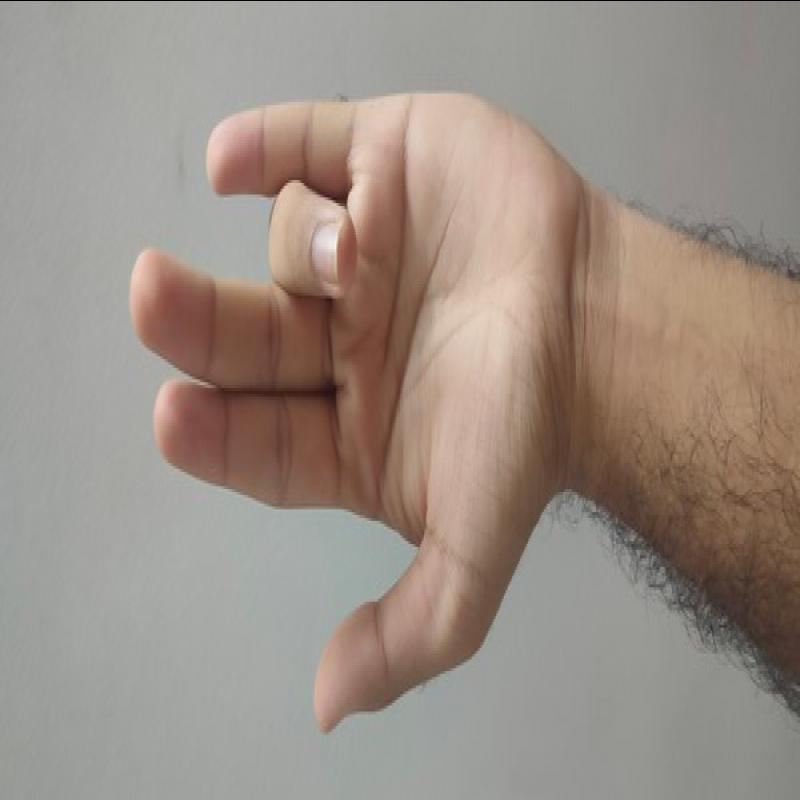Pathaaka: (99, 76, 595, 742)
